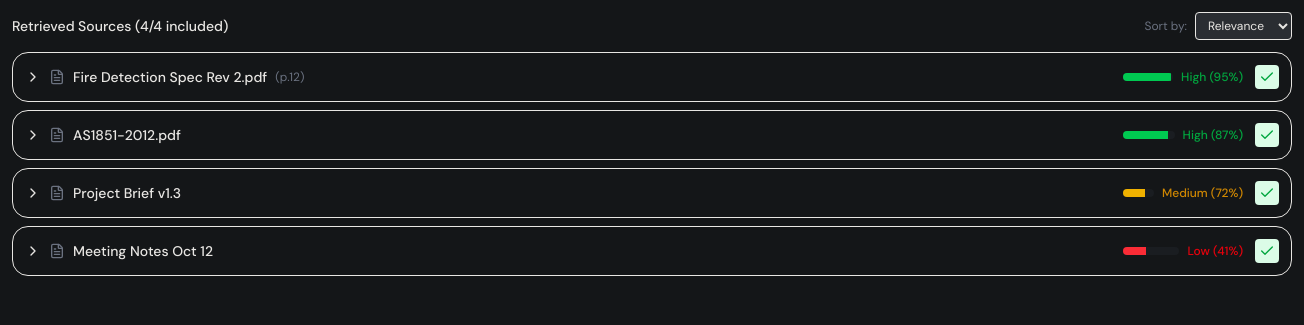
Scenario: SmartContextPanel › Source Expansion › expands source to show content when clicked
# Click on the first source to expand
Click the text "Fire Detection Spec Rev 2.pdf". click: (170, 77)
box: x1=73 y1=67 x2=267 y2=87
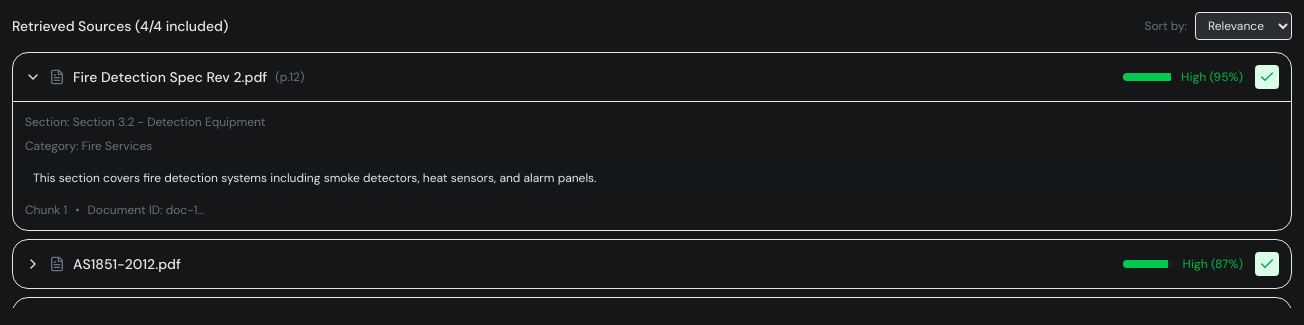
Now the text "fire detection systems including smoke detectors" is shown, box x1=33 y1=170 x2=596 y2=186
